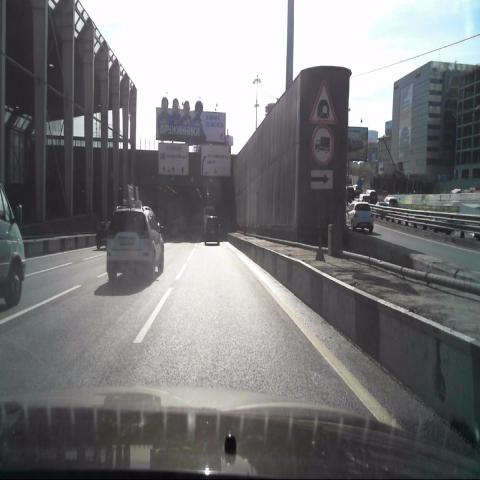1_31: (310, 81, 338, 125)
3_4_1: (311, 124, 334, 167)
8_3_1: (310, 168, 333, 190)
